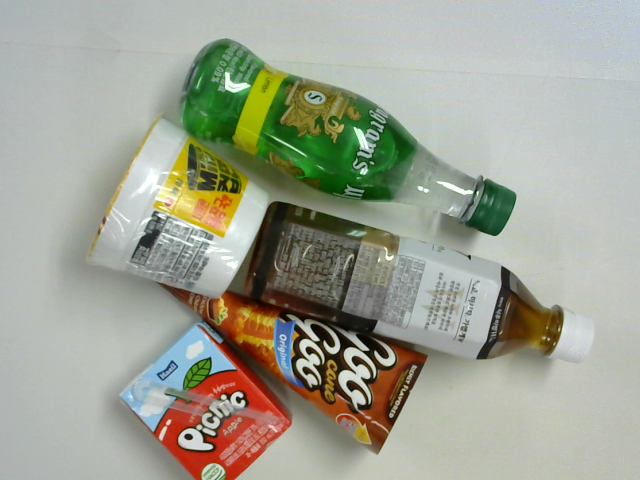GooGoo_Cone_CVS: (151, 269, 428, 452)
Hejangmini: (83, 112, 272, 288)
Picnic_Apple: (118, 324, 294, 479)
Post-meal_recipe_W_tea_500ml: (248, 203, 596, 369)
Seagram_Lemon_Carbonated_Water: (178, 36, 523, 235)
